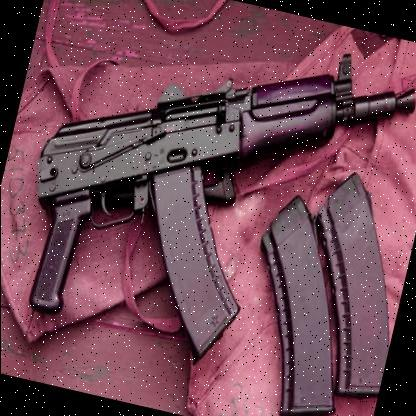rifle: (0, 6, 416, 399)
